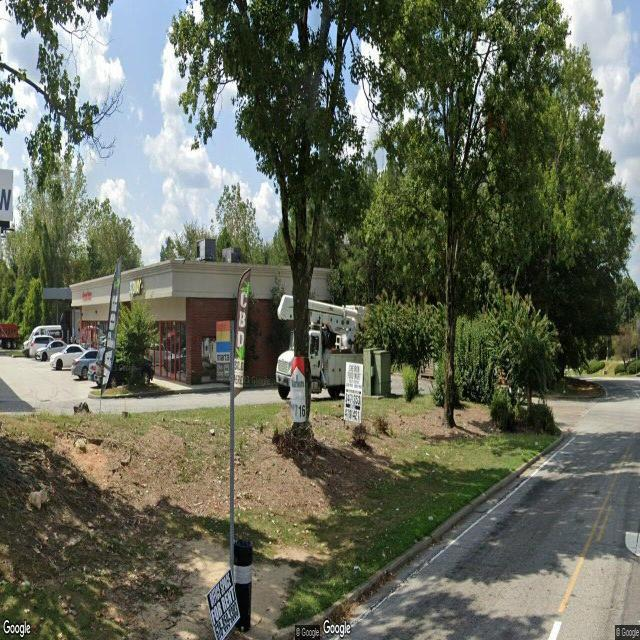trash_can: (234, 537, 252, 632)
